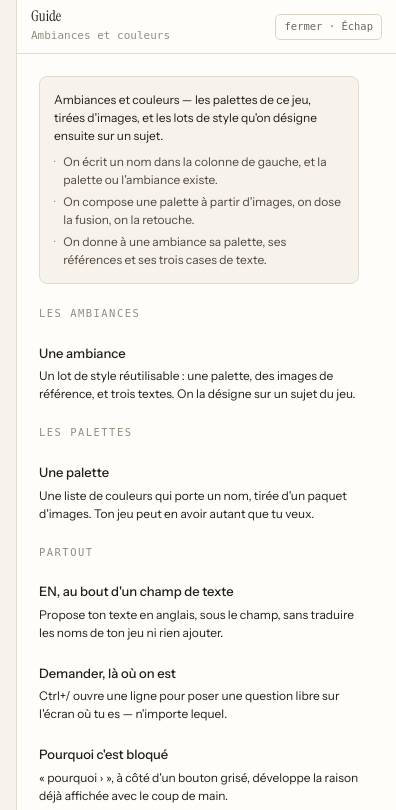
Test case: il montre ce qui concerne l'écran ouvert, pas un sommaire › le texte rendu est exactement celui du corpus, jamais recopié
Expected: the text "Une liste de couleurs qui porte un nom, tirée d'un paquet d'images. Ton jeu peut en avoir autant que tu veux." is shown, [39, 488, 347, 520]
Click the button "Une palette": (74, 472) [39, 463, 359, 482]
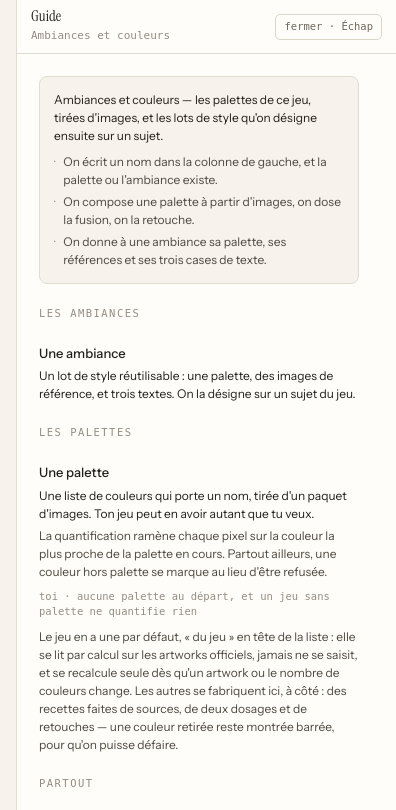
Now the text "La quantification ramène chaque pixel sur la couleur la plus proche de la palette en cours. Partout ailleurs, une couleu" is shown, box [39, 528, 336, 578]
